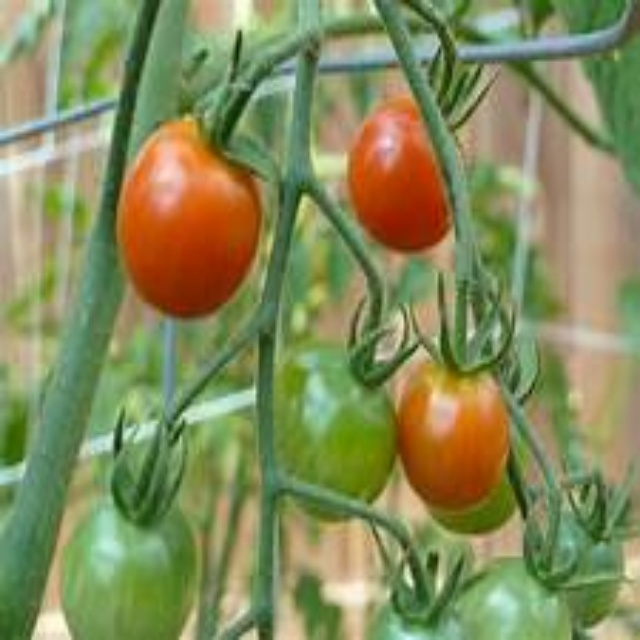tomato: (125, 115, 257, 318), (267, 331, 395, 520), (348, 93, 483, 263), (57, 496, 196, 636), (408, 354, 522, 514), (454, 551, 578, 639)
